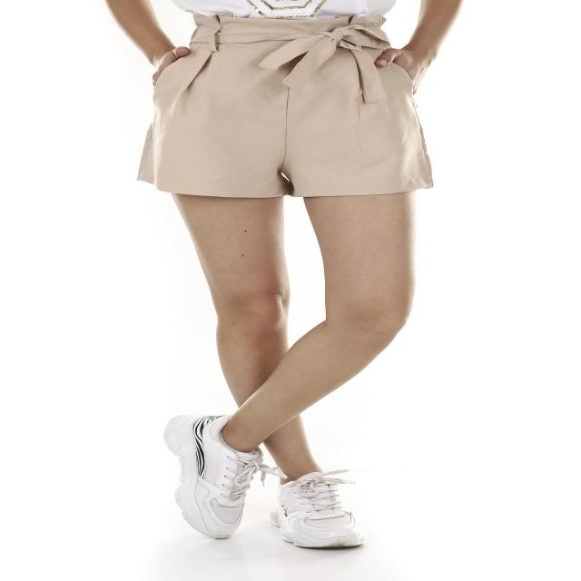Shorts: (134, 14, 436, 406)
